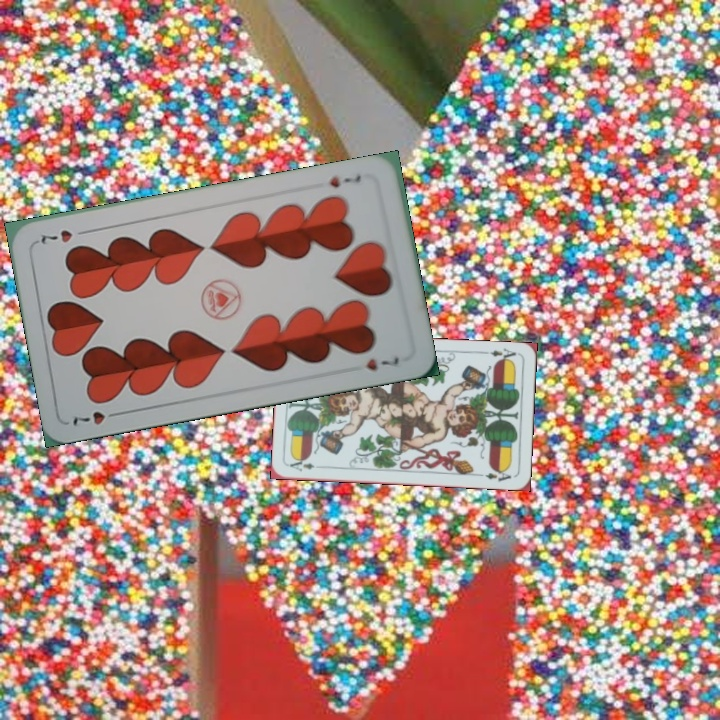EA: (480, 344, 518, 365), (286, 455, 317, 474)
H7: (68, 407, 125, 428), (325, 171, 364, 190)
